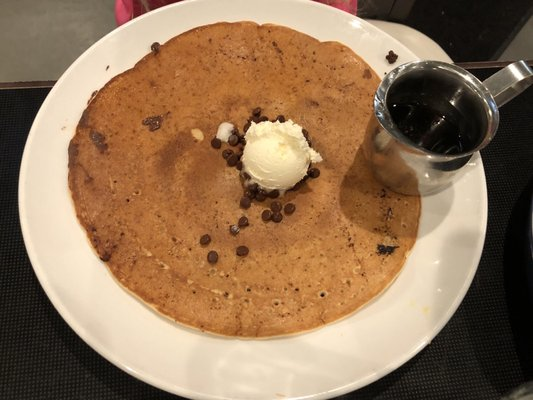pizza: (365, 59, 500, 198)
